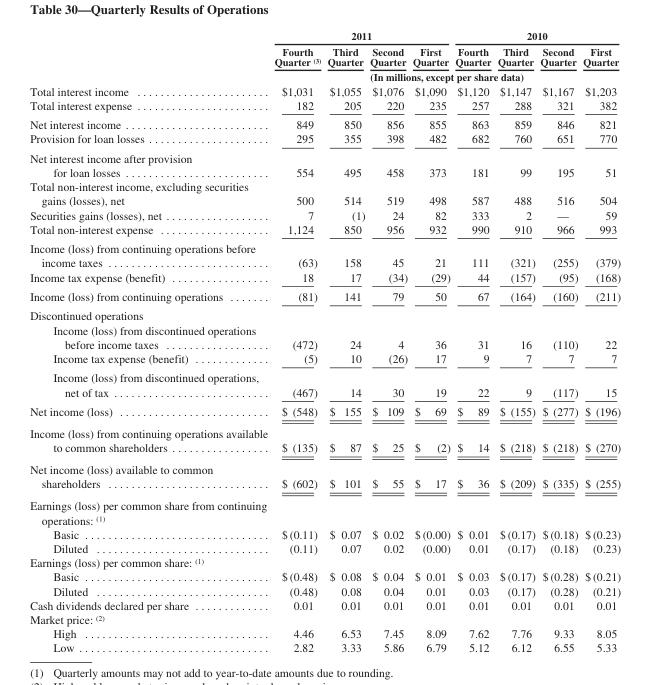table: (29, 29, 620, 653)
table column: (29, 29, 270, 653), (270, 29, 323, 653), (493, 29, 537, 653), (323, 29, 366, 653), (366, 29, 409, 653), (409, 29, 452, 653), (537, 29, 579, 653), (452, 29, 493, 653), (579, 29, 620, 653)
table column header: (29, 29, 620, 83)
table projected row header: (29, 494, 620, 526), (29, 305, 620, 322), (29, 148, 620, 164), (29, 611, 620, 626), (29, 555, 620, 569)
table row: (29, 422, 620, 458), (29, 458, 620, 494), (29, 367, 620, 401), (29, 494, 620, 526), (29, 238, 620, 269), (29, 179, 620, 207), (29, 322, 620, 350), (29, 43, 620, 68), (29, 401, 620, 422), (29, 286, 620, 305), (29, 97, 620, 114), (29, 114, 620, 131), (29, 131, 620, 148), (29, 221, 620, 238), (29, 269, 620, 286), (29, 305, 620, 322), (29, 350, 620, 367), (29, 148, 620, 164), (29, 68, 620, 83), (29, 164, 620, 179), (29, 540, 620, 555), (29, 611, 620, 626), (29, 29, 620, 43), (29, 83, 620, 97), (29, 207, 620, 221), (29, 526, 620, 540), (29, 555, 620, 569), (29, 569, 620, 583), (29, 583, 620, 597), (29, 597, 620, 611), (29, 626, 620, 640), (29, 640, 620, 653)
table spanning cell: (270, 68, 620, 83), (270, 29, 452, 43), (452, 29, 620, 43)
